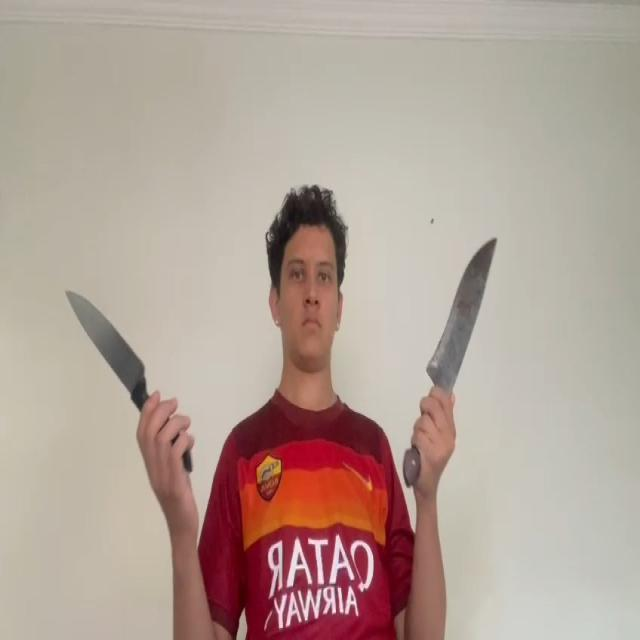knife: (424, 236, 499, 392), (64, 288, 145, 377)
